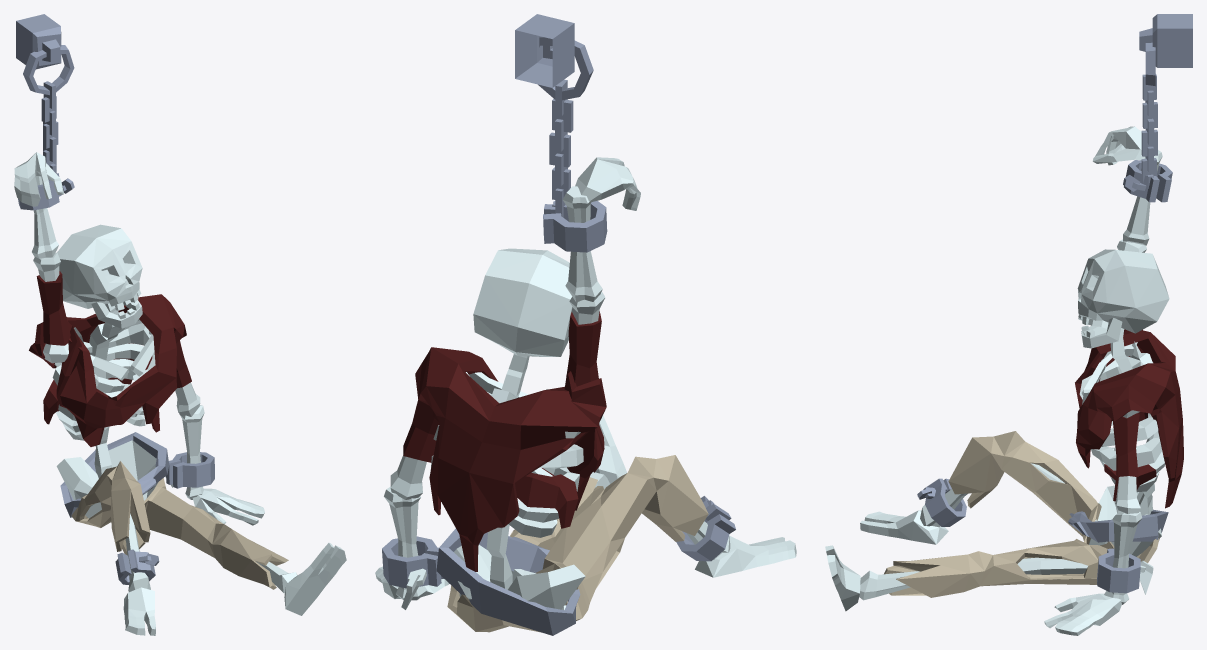
Rendered from Slave_01.FBX.
3 renders of one model, left to right at view 1: azimuth 30°, elevation 25°; view 2: azimuth 150°, elevation 25°; view 3: azimuth 270°, elevation 25°, orthographic. The views are drawn at different scales.
Visible parts, largest first — view 1: Slave_01; view 2: Slave_01; view 3: Slave_01.
Part boxes in pixels (box(x1,y1,x2,y2)): Slave_01: box(14, 14, 346, 635); Slave_01: box(375, 14, 796, 635); Slave_01: box(825, 14, 1192, 635).
Size of the model in its own units: 82.87 by 176 by 109.
